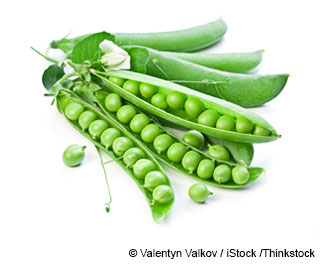boiled peas: (57, 96, 219, 162)
